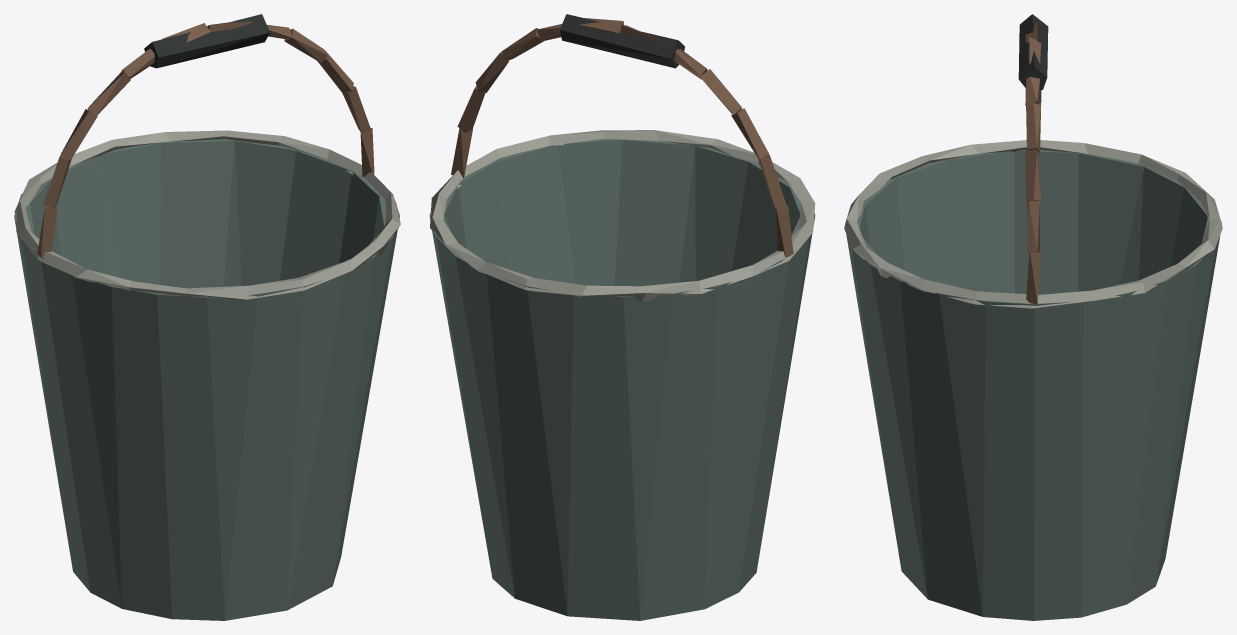
File: bucket_low.glb
3 views of the same model, side by side, from view 1: azimuth 30°, elevation 25°; view 2: azimuth 150°, elevation 25°; view 3: azimuth 270°, elevation 25° (orthographic). The views are drawn at different scales.
Parts seen in each view (by area): view 1: bucket.001; view 2: bucket.001; view 3: bucket.001.
Boxes of the visible parts, left/top/right/bottom form: bucket.001: left=14, top=14, right=400, bottom=620; bucket.001: left=429, top=14, right=815, bottom=620; bucket.001: left=844, top=14, right=1222, bottom=620.
Bounding box in the file's own units: 0.3045 × 0.4656 × 0.302.
